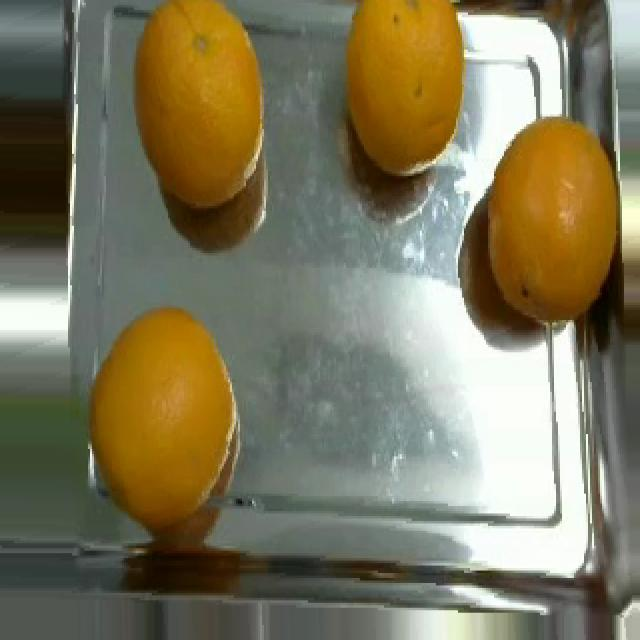Fruit: (318, 0, 486, 203), (114, 0, 274, 206), (0, 72, 74, 283)
